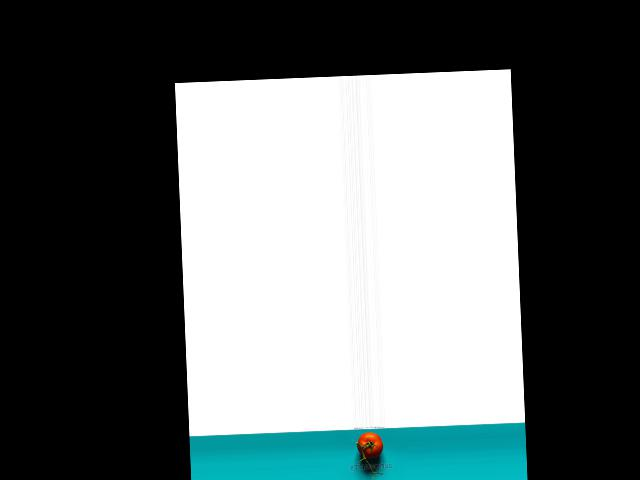tomato: (355, 432, 383, 458)
